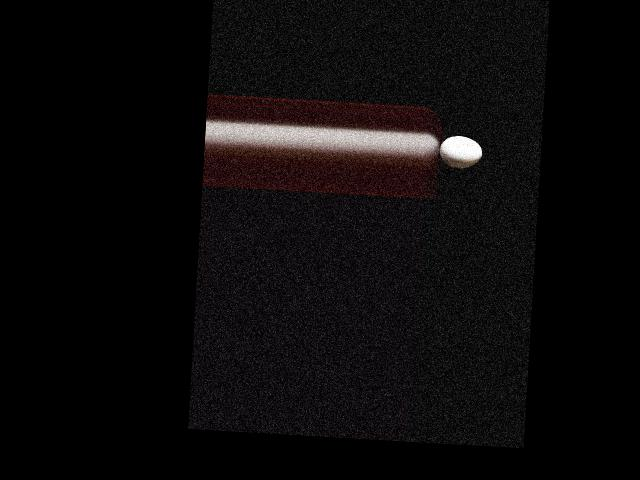egg: (438, 134, 482, 168)
